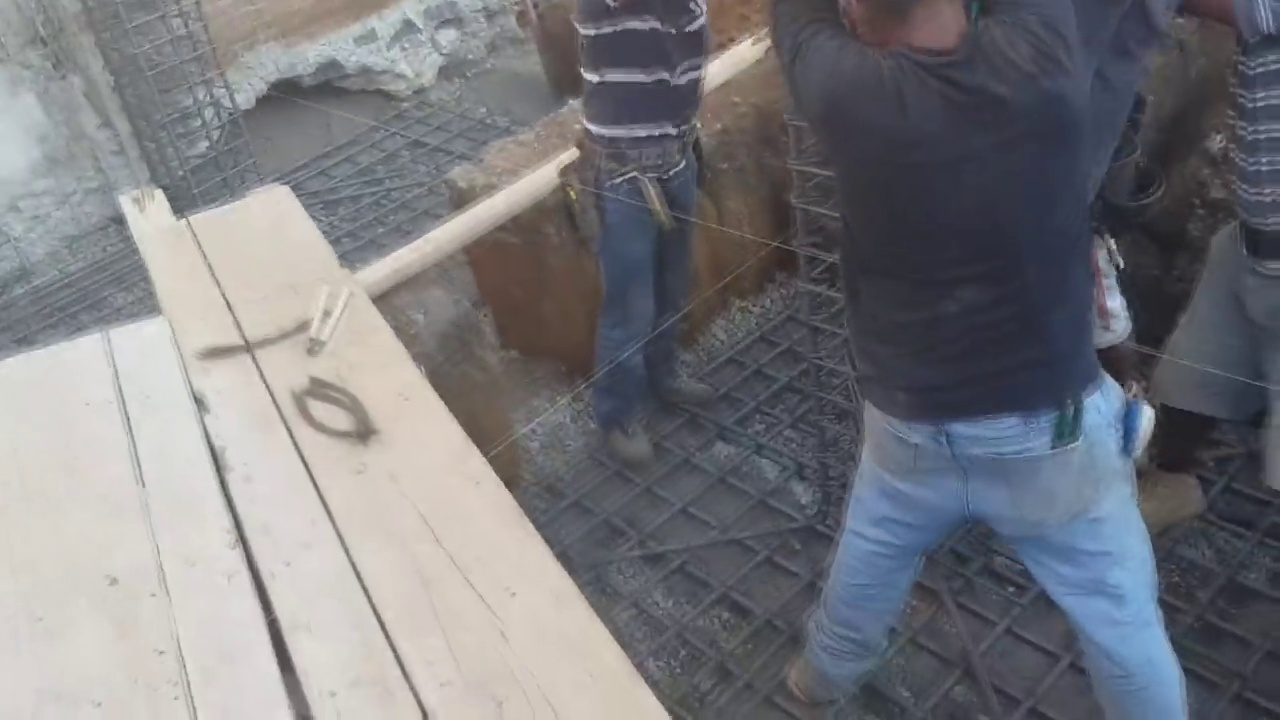person: (778, 0, 1191, 720), (523, 0, 713, 471), (1132, 0, 1280, 543)
